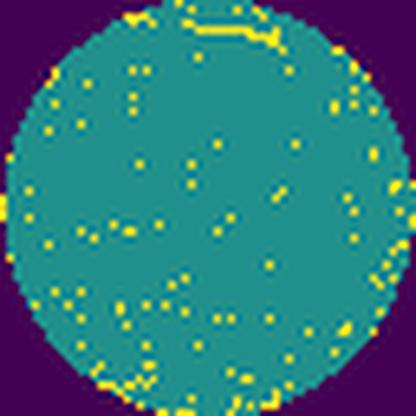Scratch: (177, 18, 294, 58)
